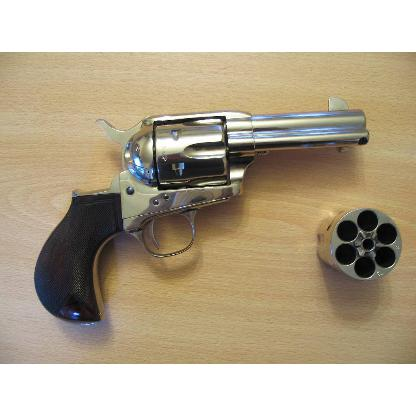gun: (34, 96, 368, 324)
